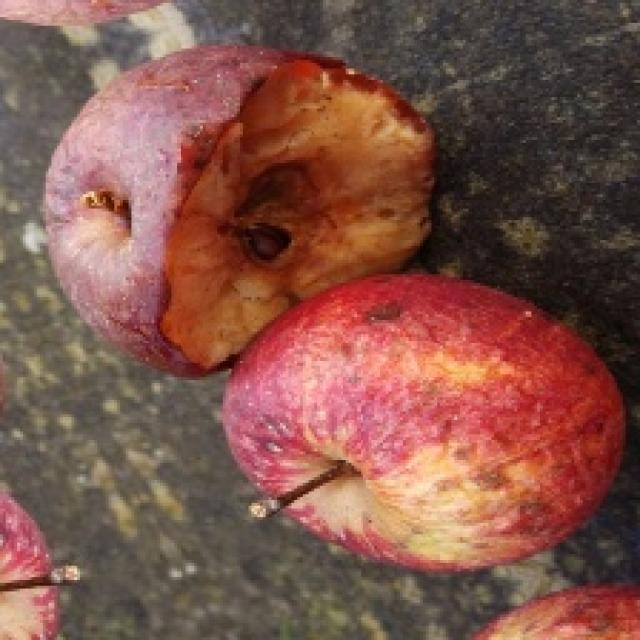rotten_apple: (43, 50, 431, 295)
